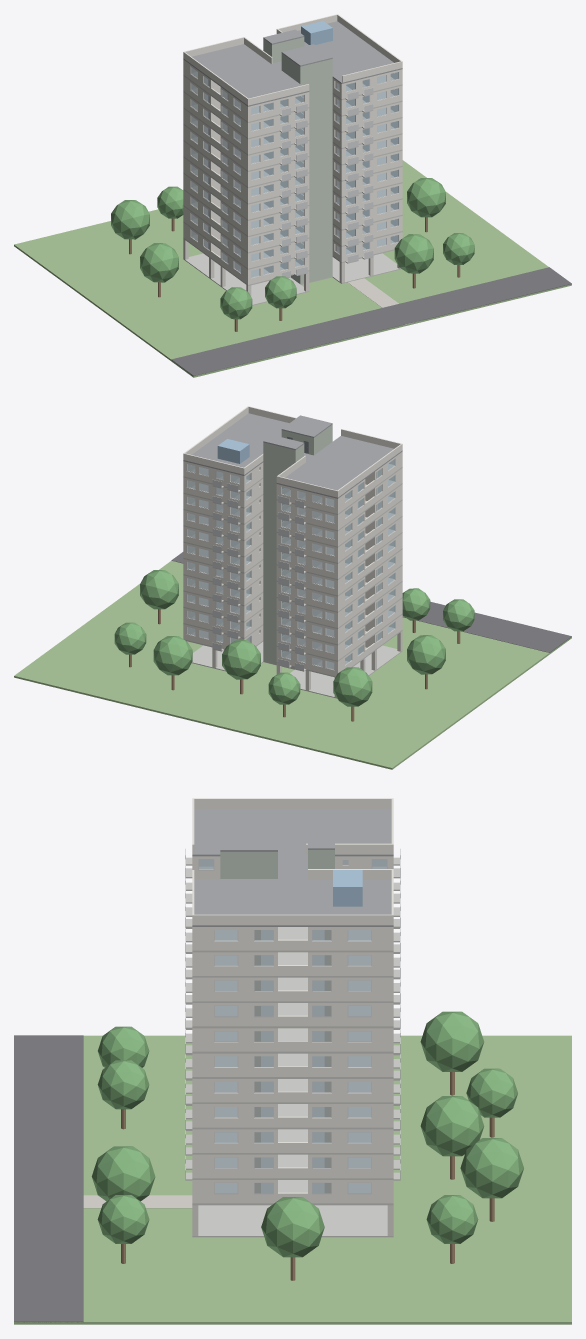
Rendered from hdb_block.glb.
The picture shows the model from 3 angles, top to bottom: view 1: azimuth 30°, elevation 25°; view 2: azimuth 150°, elevation 25°; view 3: azimuth 270°, elevation 25°; orthographic projection. The views are drawn at different scales.
Parts seen in each view (by area): view 1: Demo_Site_static_6b9954_1, Demo_Site_static_38383d_1, Demo_Site_static_3d7a38_1, RF_static_6b6d72_1, RF_static_ede8db_1, L12_static_ede8db_1, L4_static_ede8db_1, L9_static_ede8db_1, L7_static_ede8db_1, L10_static_ede8db_1, L8_static_ede8db_1, L3_static_ede8db_1 (+32 smaller); view 2: Demo_Site_static_6b9954_1, Demo_Site_static_3d7a38_1, RF_static_6b6d72_1, RF_static_ede8db_1, L12_static_ede8db_1, Demo_Site_static_38383d_1, L9_static_ede8db_1, L4_static_ede8db_1, L10_static_ede8db_1, L7_static_ede8db_1, L8_static_ede8db_1, L3_static_ede8db_1 (+31 smaller); view 3: Demo_Site_static_6b9954_1, Demo_Site_static_3d7a38_1, Demo_Site_static_38383d_1, RF_static_6b6d72_1, RF_static_ede8db_1, L12_static_ede8db_1, L1_static_b2b2ad_1, L3_static_ede8db_1, L10_static_ede8db_1, L7_static_ede8db_1, L5_static_ede8db_1, L6_static_ede8db_1 (+31 smaller).
Part boxes in pixels (x1,y1,x2,y2): Demo_Site_static_6b9954_1: (14,160,571,377); Demo_Site_static_38383d_1: (171,267,571,376); Demo_Site_static_3d7a38_1: (111,178,474,319); RF_static_6b6d72_1: (183,21,402,106); RF_static_ede8db_1: (183,14,402,105); L12_static_ede8db_1: (183,59,402,121); L4_static_ede8db_1: (183,190,402,252); L9_static_ede8db_1: (183,108,402,170); L7_static_ede8db_1: (183,141,402,203); L10_static_ede8db_1: (183,92,402,154); L8_static_ede8db_1: (183,125,402,186); L3_static_ede8db_1: (183,206,402,268); Demo_Site_static_6b9954_1: (14,560,571,769); Demo_Site_static_3d7a38_1: (114,570,474,706); RF_static_6b6d72_1: (183,413,402,498); RF_static_ede8db_1: (183,406,402,497); L12_static_ede8db_1: (183,451,402,513); Demo_Site_static_38383d_1: (171,552,571,652); L9_static_ede8db_1: (183,500,402,562); L4_static_ede8db_1: (183,582,402,644); L10_static_ede8db_1: (183,484,402,546); L7_static_ede8db_1: (183,533,402,595); L8_static_ede8db_1: (183,517,402,578); L3_static_ede8db_1: (183,598,402,660); Demo_Site_static_6b9954_1: (14,1035,571,1324); Demo_Site_static_3d7a38_1: (91,1011,523,1257); Demo_Site_static_38383d_1: (14,1035,83,1322); RF_static_6b6d72_1: (192,809,393,926); RF_static_ede8db_1: (192,798,393,925); L12_static_ede8db_1: (192,856,393,950); L1_static_b2b2ad_1: (192,1205,393,1237); L3_static_ede8db_1: (192,1154,393,1178); L10_static_ede8db_1: (192,977,393,1001); L7_static_ede8db_1: (192,1053,393,1076); L5_static_ede8db_1: (192,1104,393,1127); L6_static_ede8db_1: (192,1079,393,1102).
Size of the model in its own units: 68 by 38.25 by 56.
